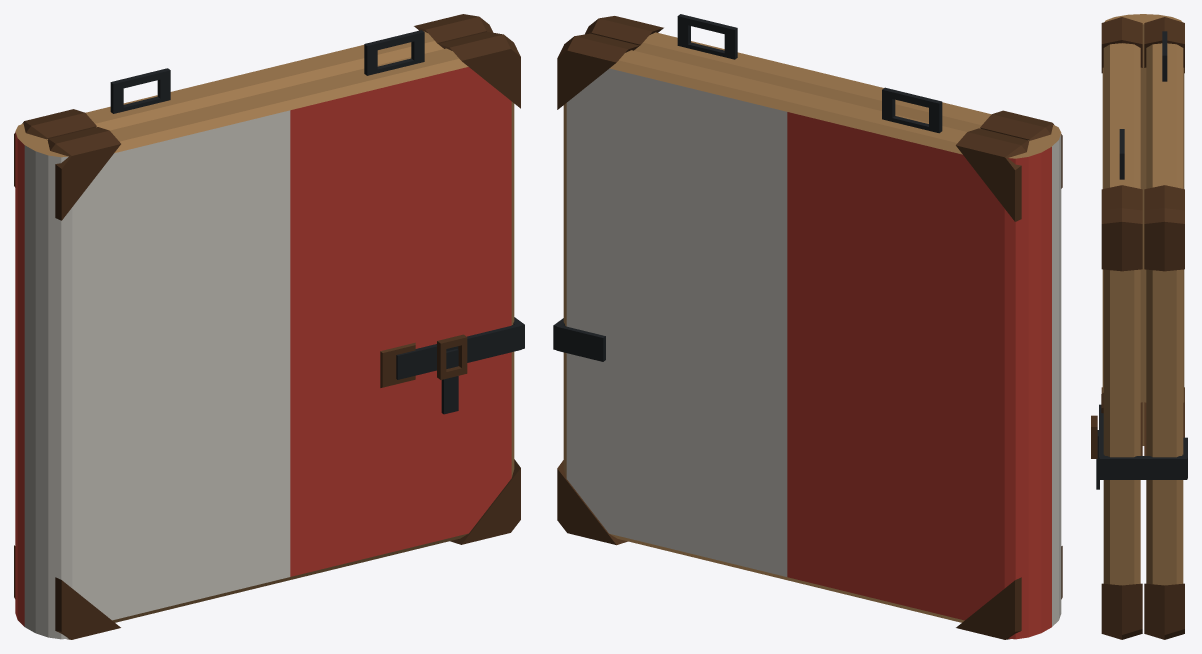
File: gym-floor-mat-d148b7.glb
3 views of the same model, side by side, from view 1: azimuth 30°, elevation 25°; view 2: azimuth 150°, elevation 25°; view 3: azimuth 270°, elevation 25° (orthographic). The views are drawn at different scales.
Parts seen in each view (by area): view 1: mat, mat-leaf; view 2: mat-leaf, mat; view 3: mat, mat-leaf.
Part boxes in pixels (x1,y1,x2,y2): mat: (15, 30, 524, 639); mat-leaf: (14, 14, 493, 598); mat-leaf: (557, 33, 1029, 639); mat: (553, 14, 1062, 639); mat: (1091, 14, 1187, 639); mat-leaf: (1144, 17, 1184, 639).
Size of the model in its own units: 1.04 by 1.08 by 0.209.
